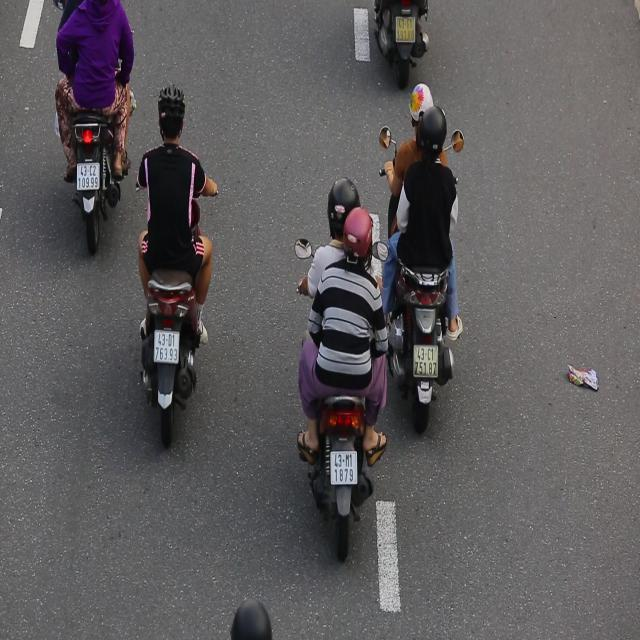motorbike: (292, 176, 396, 567), (376, 86, 470, 439), (134, 79, 223, 451)
